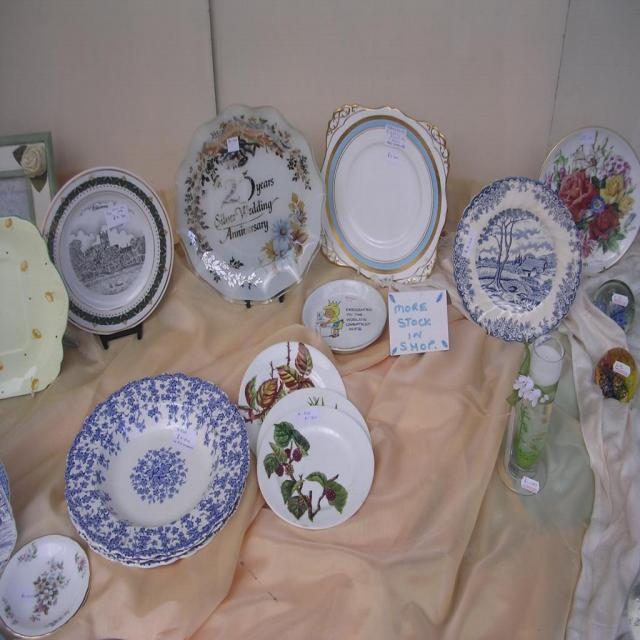non-organic waste: (55, 373, 254, 575), (237, 325, 389, 542), (175, 100, 322, 305), (316, 80, 445, 313), (453, 160, 581, 350), (46, 163, 170, 357), (542, 128, 639, 265)
